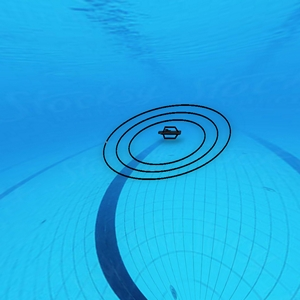circle: (102, 102, 234, 180)
submarine: (159, 125, 180, 137)
